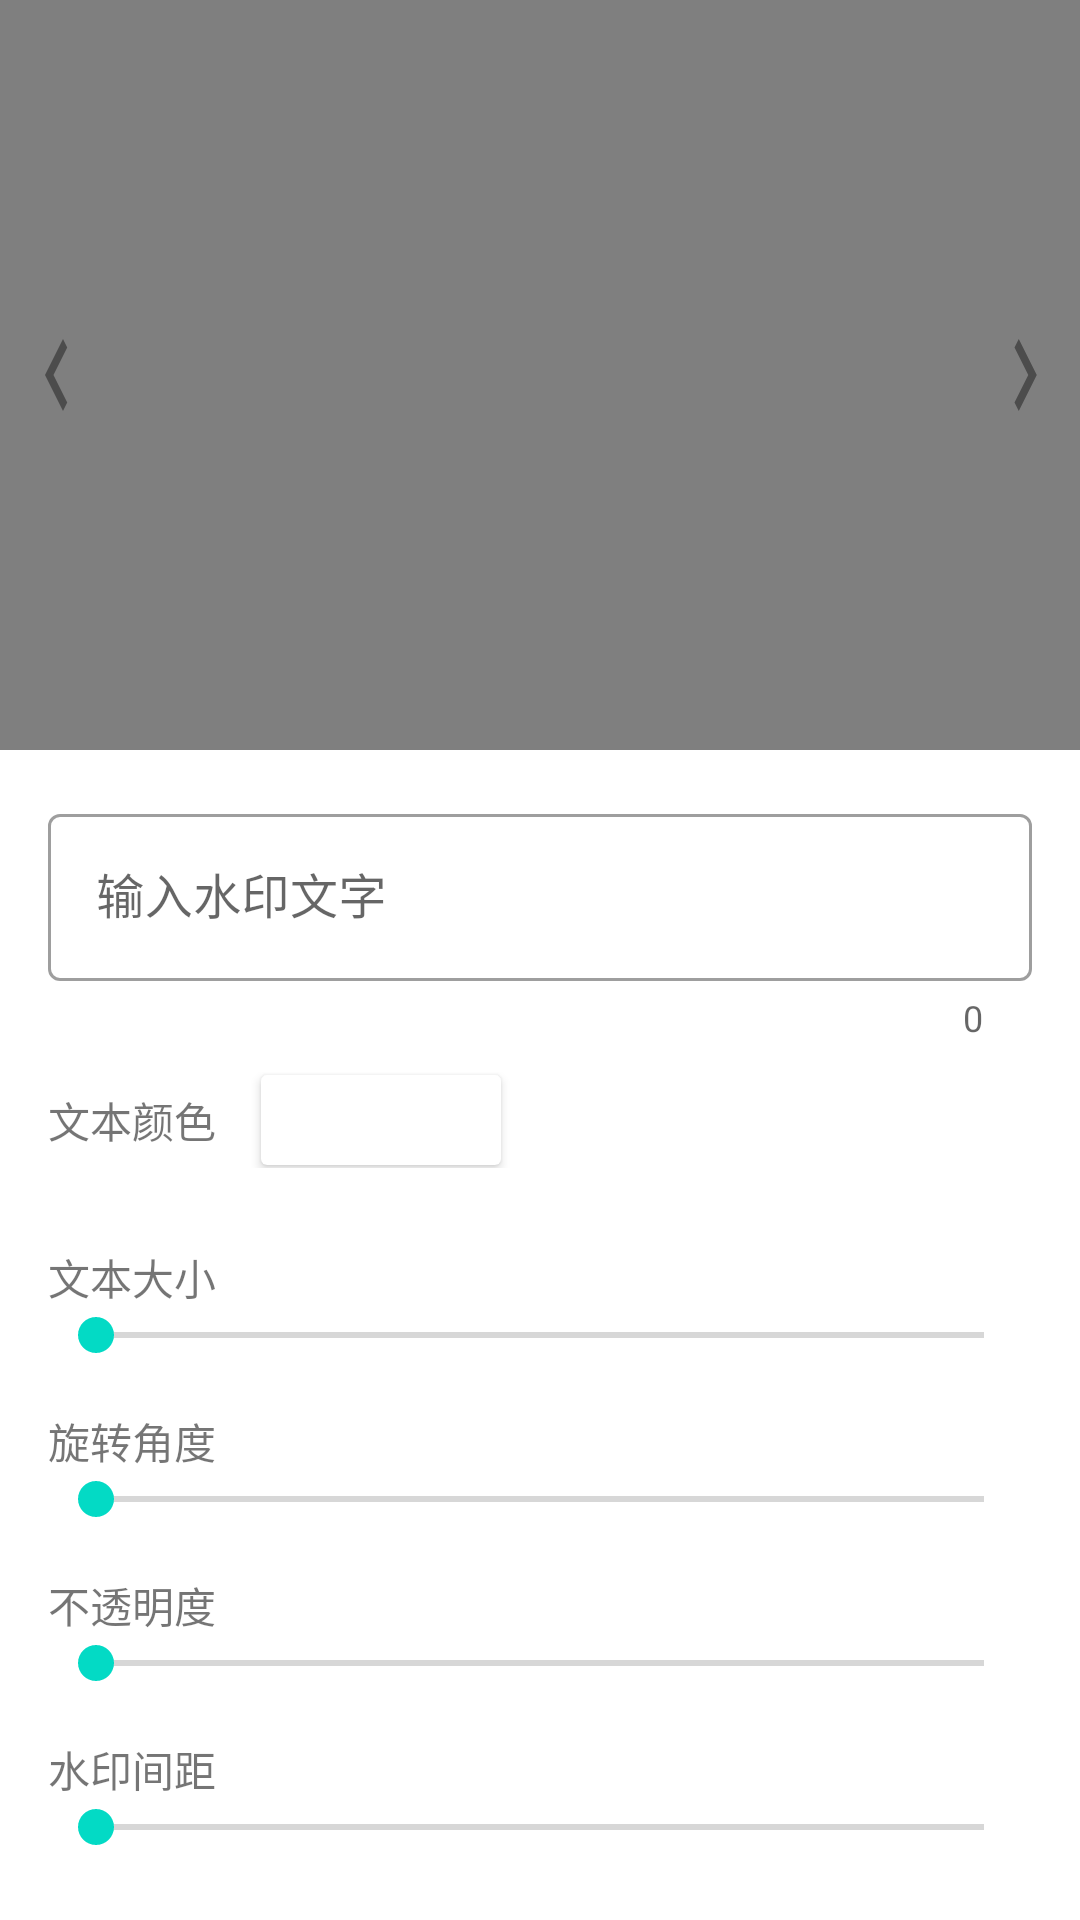

Locate icon controls on the screen. Image size 1080×1920, boxes as (x1, y1, x2, y2).
上一张: (45, 340, 67, 410)
下一张: (1015, 340, 1037, 410)
